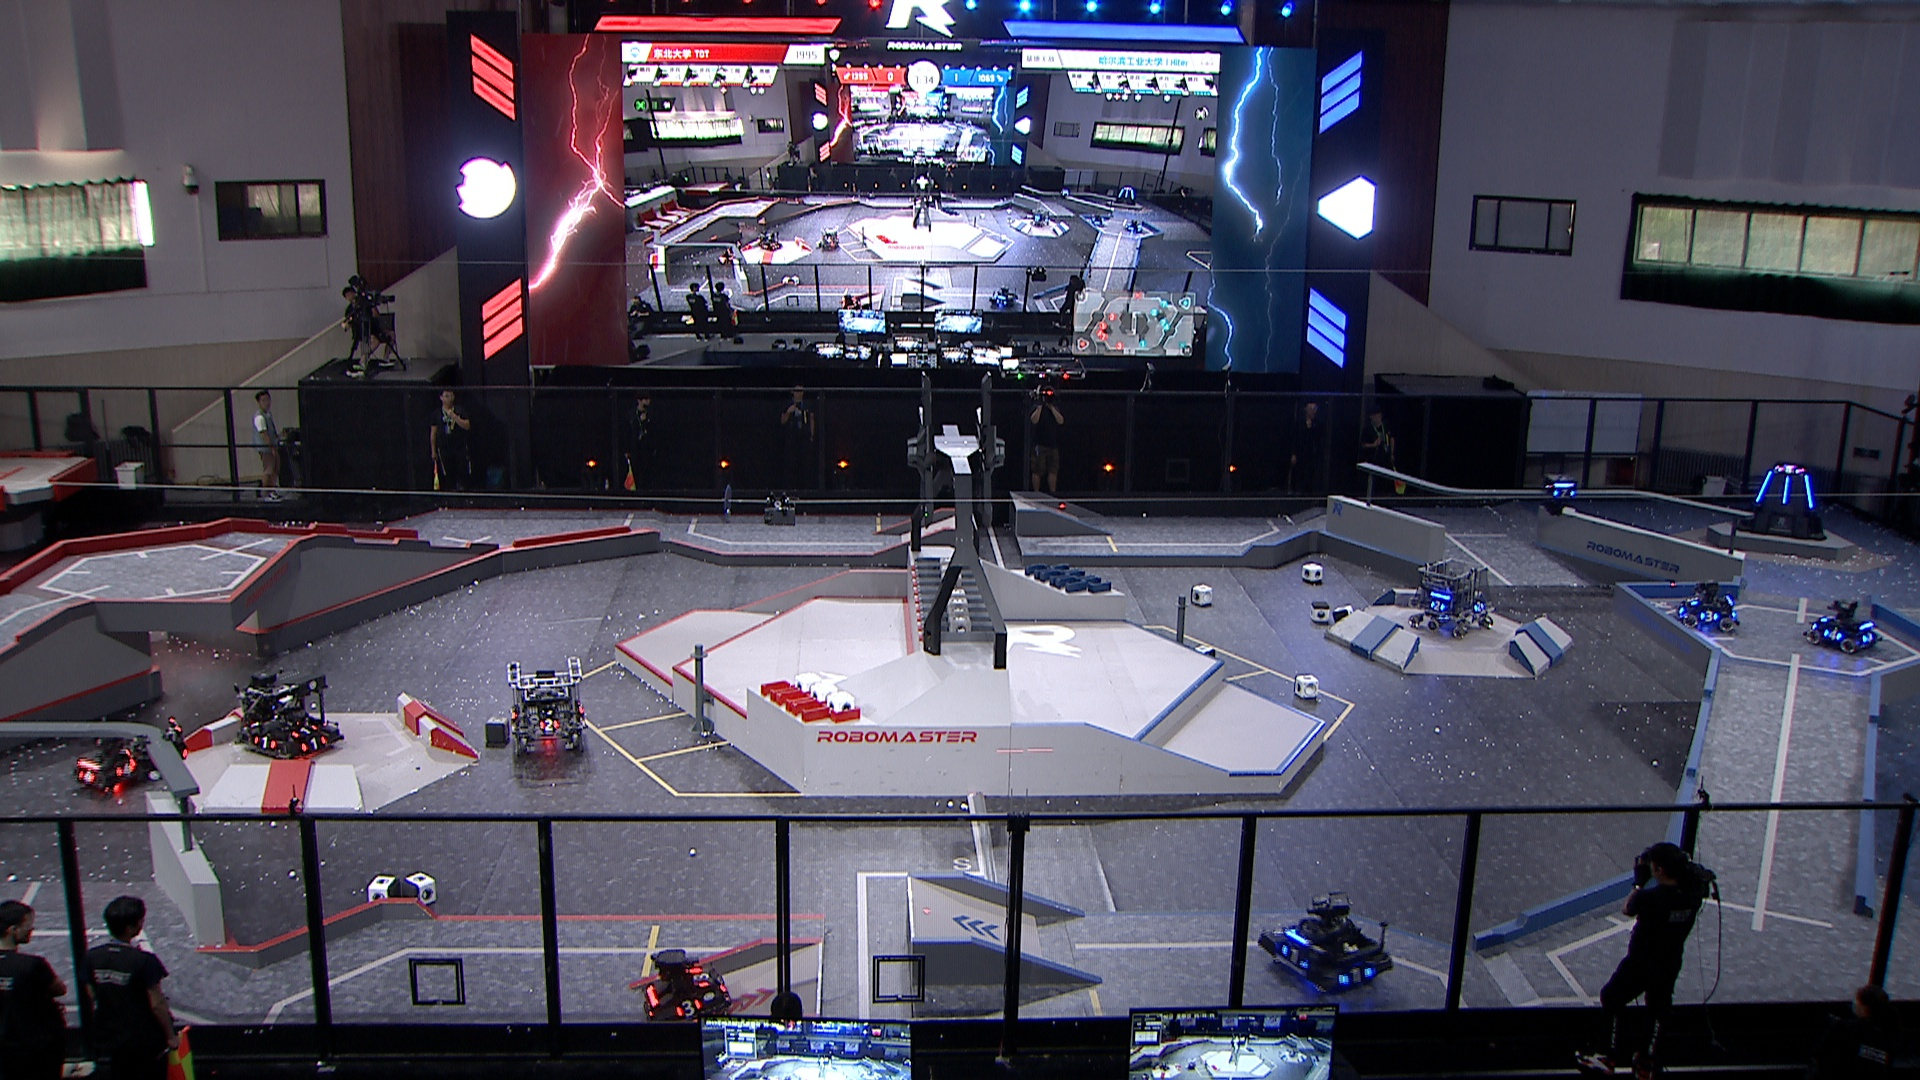armor: (1337, 960, 1378, 992), (1278, 943, 1309, 973), (1755, 465, 1776, 506), (673, 996, 704, 1022), (299, 732, 334, 756), (249, 731, 277, 754), (112, 756, 138, 779), (290, 717, 320, 737), (1803, 471, 1817, 510), (688, 967, 711, 992), (1695, 605, 1724, 624), (711, 973, 731, 997), (534, 716, 560, 733), (74, 765, 96, 785), (1822, 626, 1846, 644), (1782, 472, 1793, 505), (121, 745, 138, 767), (1470, 595, 1489, 615), (1551, 487, 1577, 500), (1427, 597, 1447, 613), (1859, 629, 1876, 646), (1685, 589, 1698, 608)
base: (1735, 460, 1828, 543)
car: (1257, 891, 1395, 996), (229, 671, 345, 760), (636, 944, 732, 1038), (504, 655, 585, 764), (1404, 556, 1495, 638), (69, 723, 156, 798), (1803, 589, 1880, 655), (1669, 578, 1743, 633)
ignore: (986, 284, 1017, 310), (760, 225, 785, 255), (713, 245, 740, 268), (818, 228, 841, 251), (1114, 183, 1138, 206), (1033, 204, 1054, 228), (840, 291, 861, 313), (1776, 462, 1807, 475)
watcher: (120, 713, 193, 785), (1542, 469, 1581, 520)
